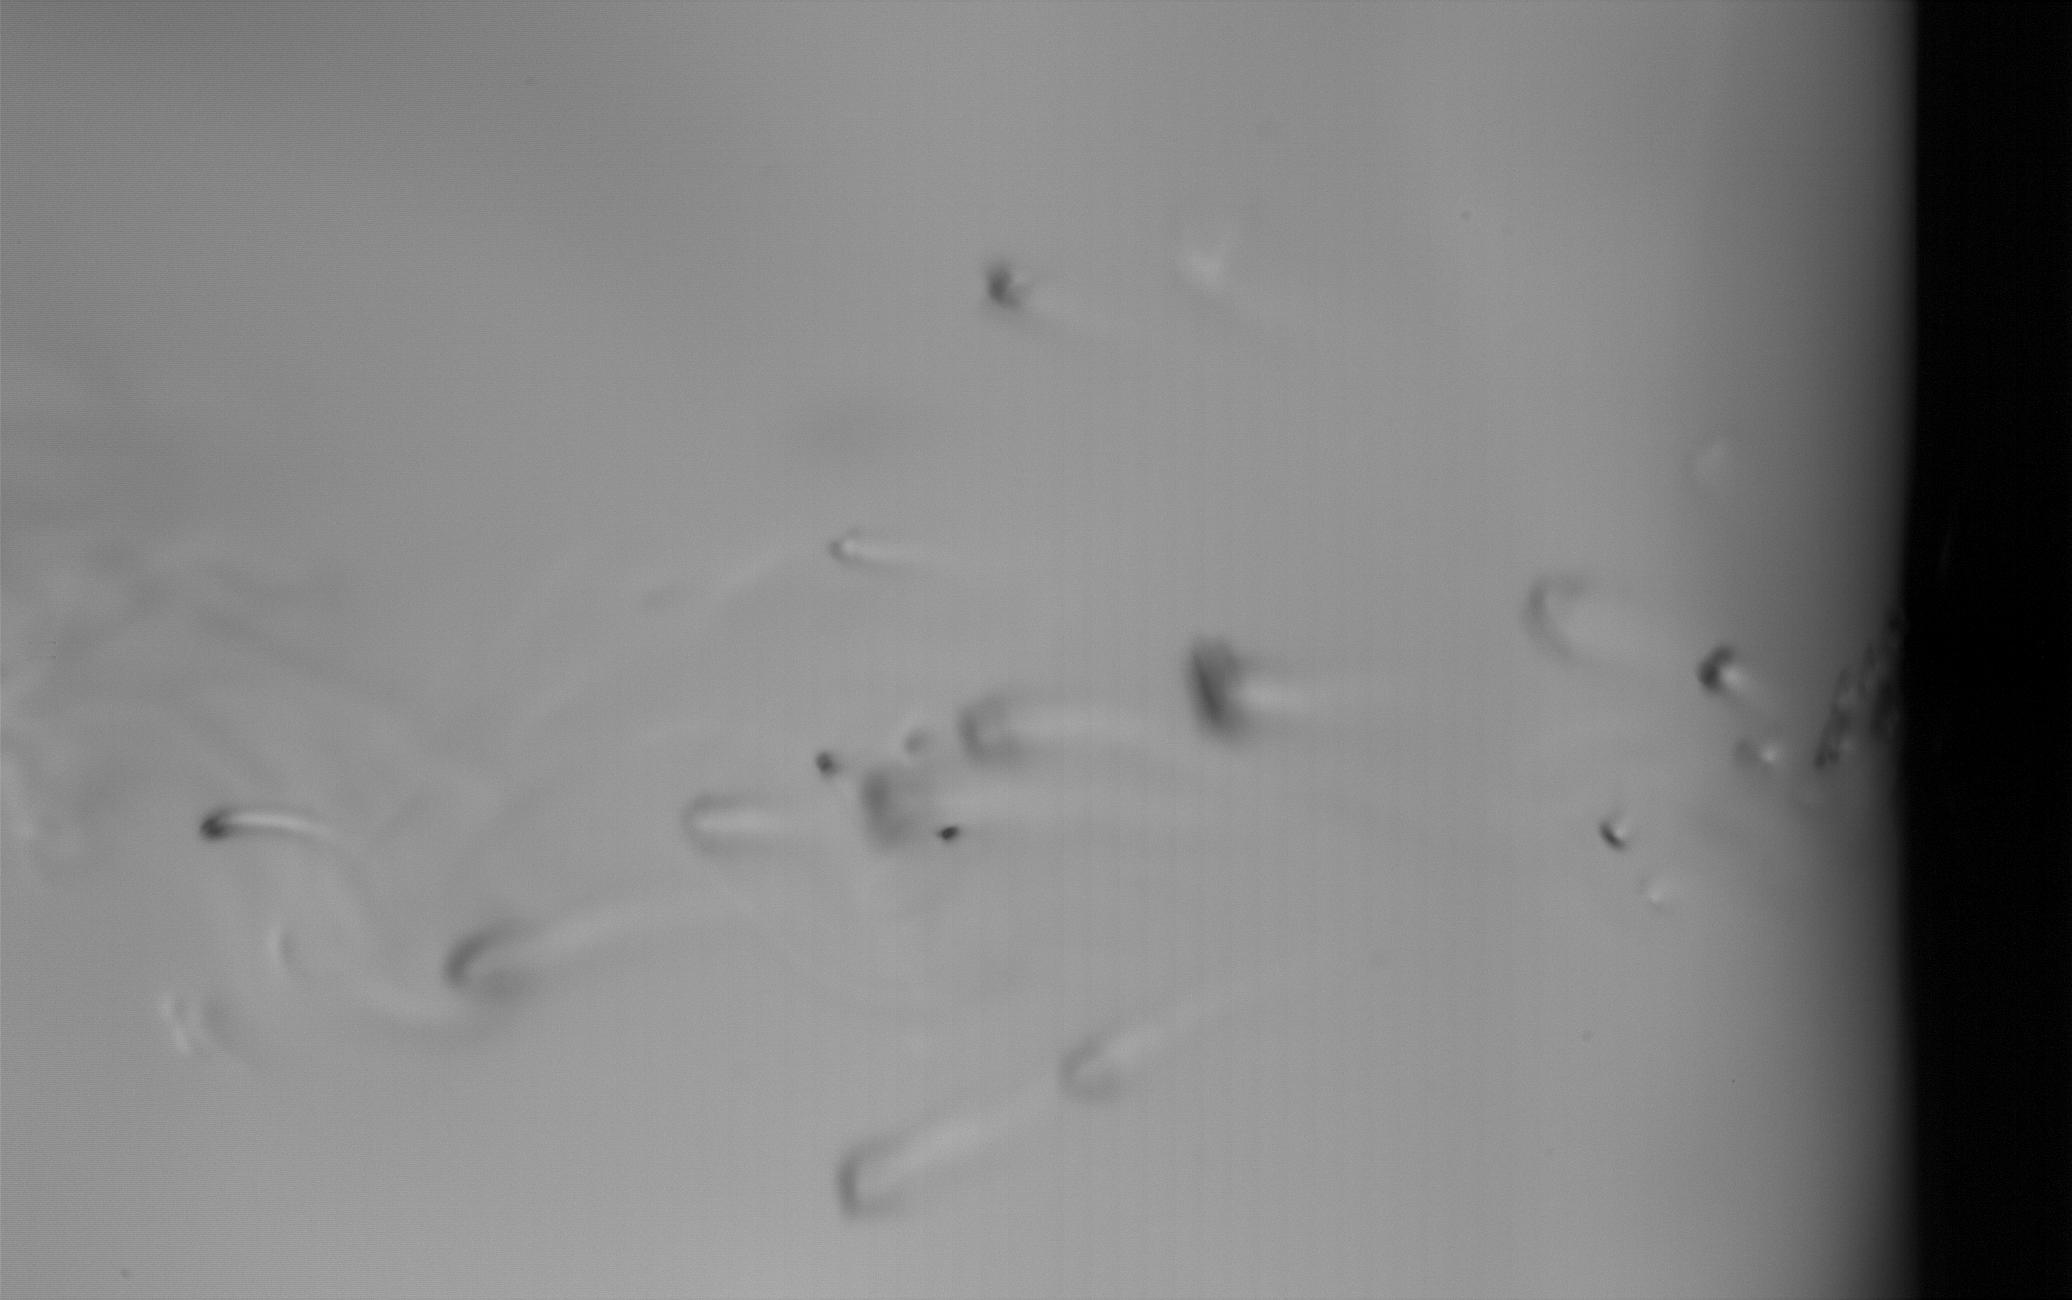Blurry: (1180, 631, 1250, 741), (855, 732, 912, 843), (958, 683, 1023, 771), (1698, 640, 1737, 711), (982, 259, 1026, 309), (805, 741, 844, 785), (930, 818, 963, 849)
DiffusiveMixing: (1517, 569, 1600, 672), (442, 923, 522, 1009), (826, 1138, 901, 1210), (186, 801, 290, 851), (672, 792, 740, 845), (1600, 794, 1633, 855)
